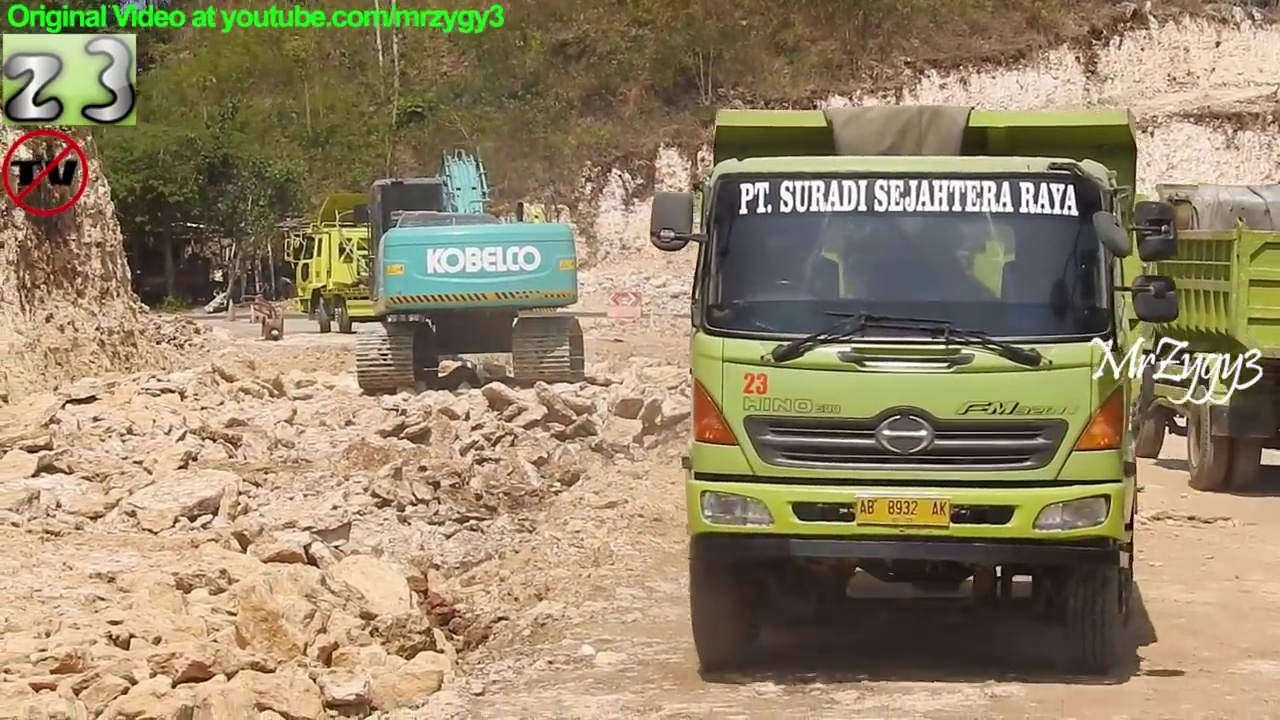excavator: (353, 147, 592, 393)
truck: (648, 102, 1185, 689), (1084, 185, 1280, 493), (281, 189, 575, 340)
